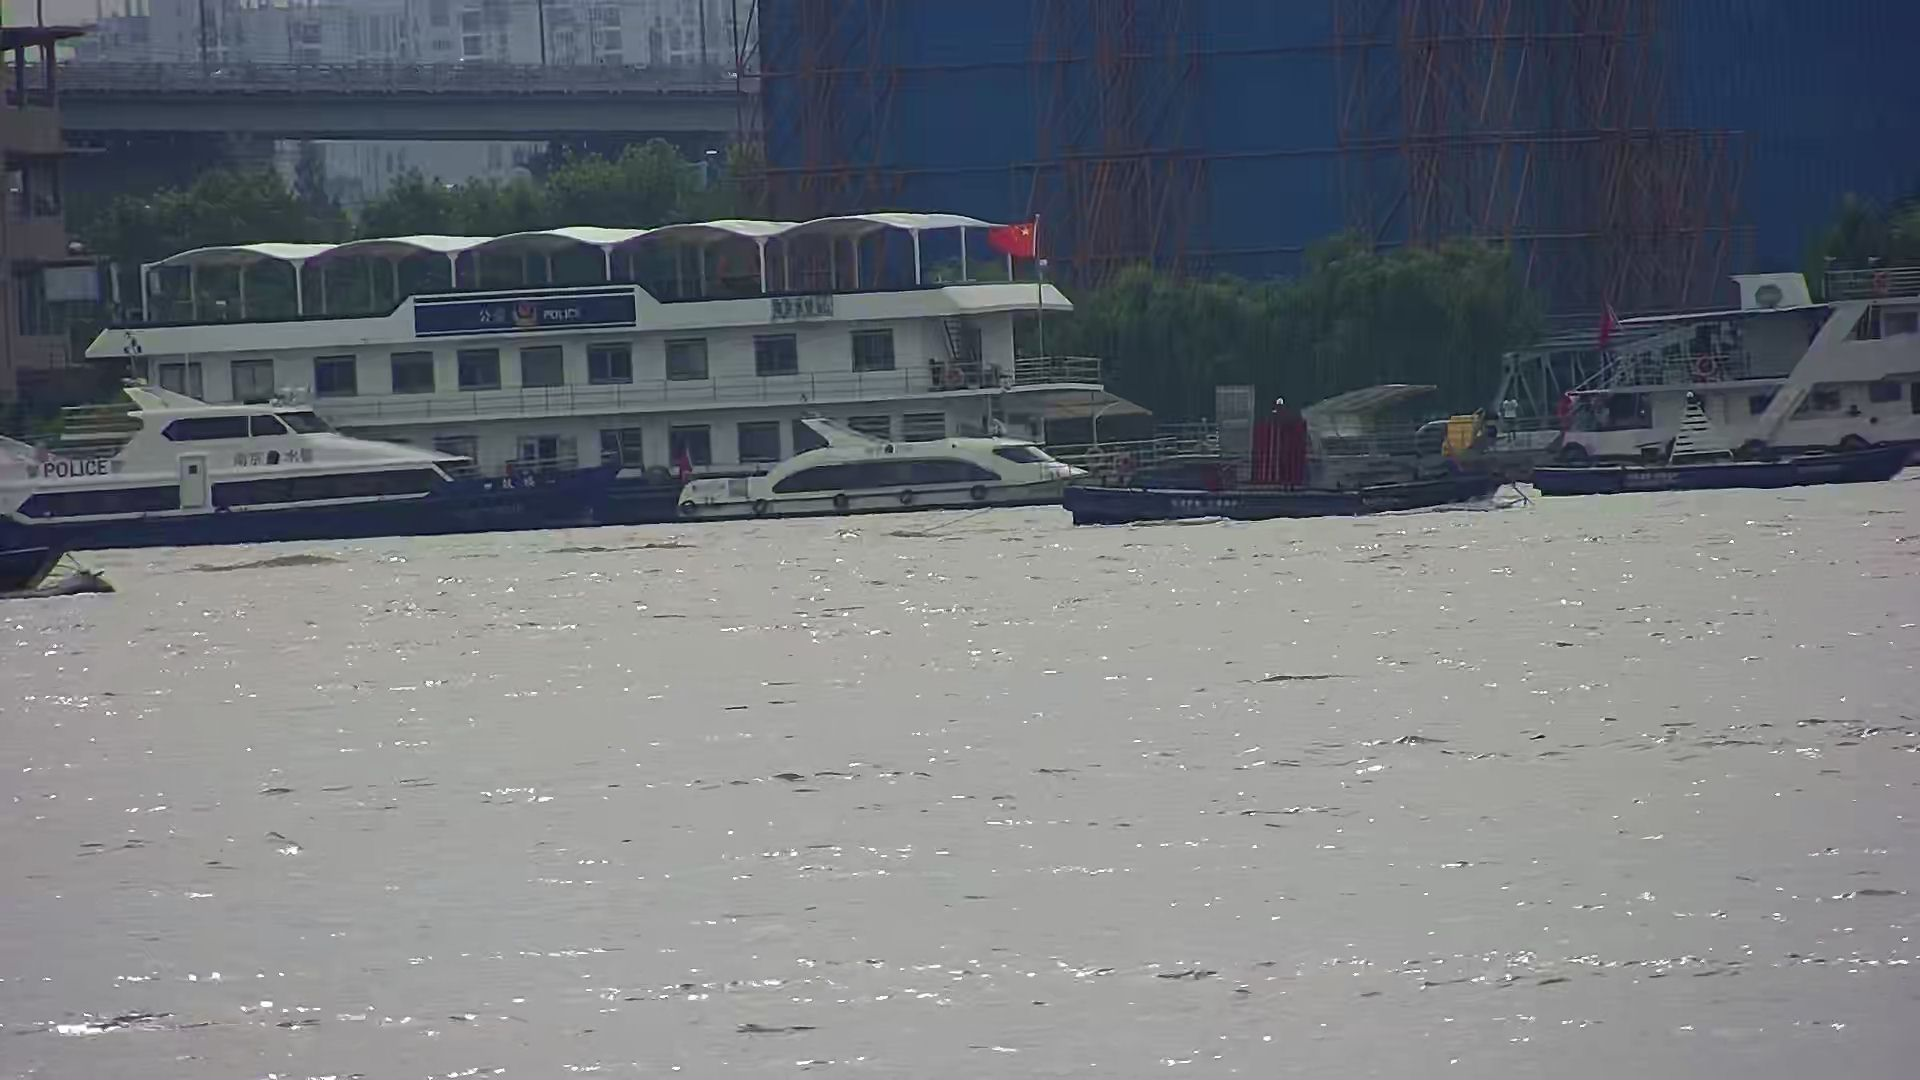boat: (1058, 394, 1506, 520), (1534, 398, 1920, 493), (1, 546, 113, 597)
ship: (3, 382, 629, 543), (1468, 266, 1920, 467), (676, 421, 1133, 517)
